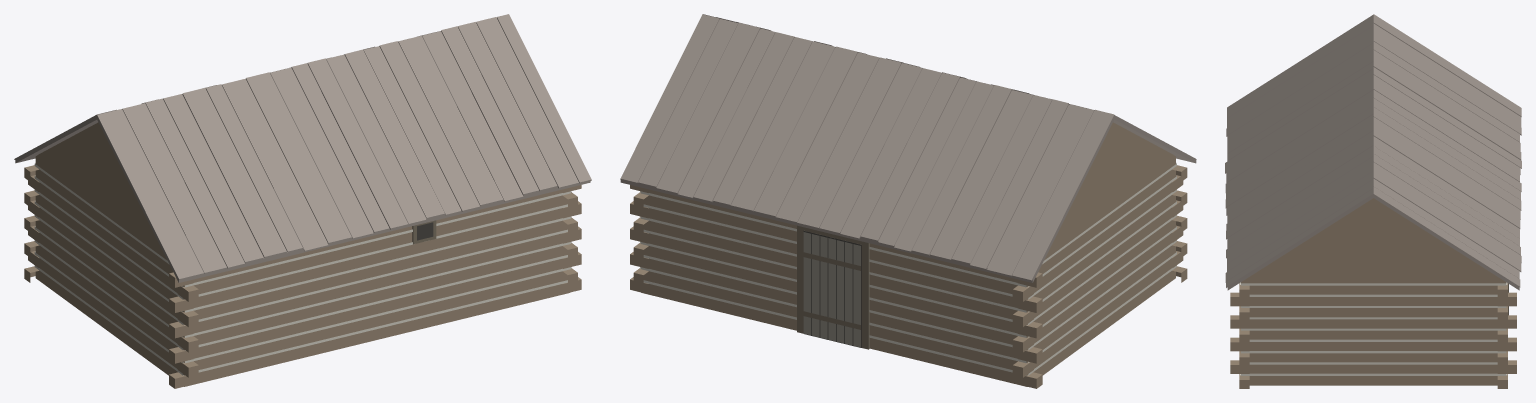
Rendered from wolf_point_tavern_stable__stable_1831.glb.
The picture shows the model from 3 angles, left to right: view 1: azimuth 30°, elevation 25°; view 2: azimuth 150°, elevation 25°; view 3: azimuth 270°, elevation 25°; orthographic projection. The views are drawn at different scales.
Parts seen in each view (by area): view 1: wolf_point_tavern_stable__stable_1831; view 2: wolf_point_tavern_stable__stable_1831; view 3: wolf_point_tavern_stable__stable_1831.
Part boxes in pixels (left/top/right/bottom): wolf_point_tavern_stable__stable_1831: left=14, top=14, right=591, bottom=388; wolf_point_tavern_stable__stable_1831: left=620, top=14, right=1196, bottom=388; wolf_point_tavern_stable__stable_1831: left=1225, top=14, right=1521, bottom=388.
Bounding box in the file's own units: 9.6 × 4.94 × 6.71.
1 material, 1 textured.
